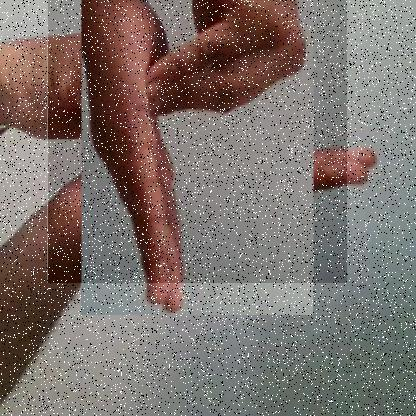Z: (47, 0, 348, 284)
